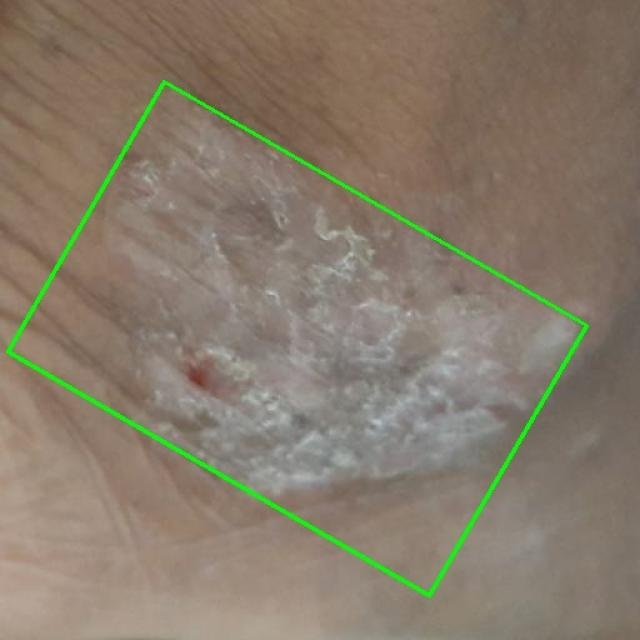Eczema: (8, 82, 586, 596)
